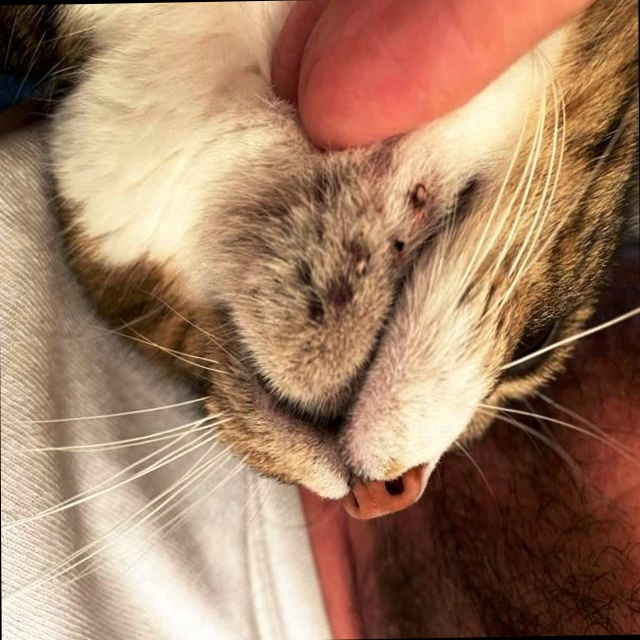acne: (278, 159, 434, 354)
